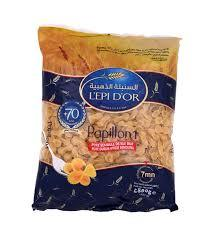Papillon: (36, 29, 179, 209)
